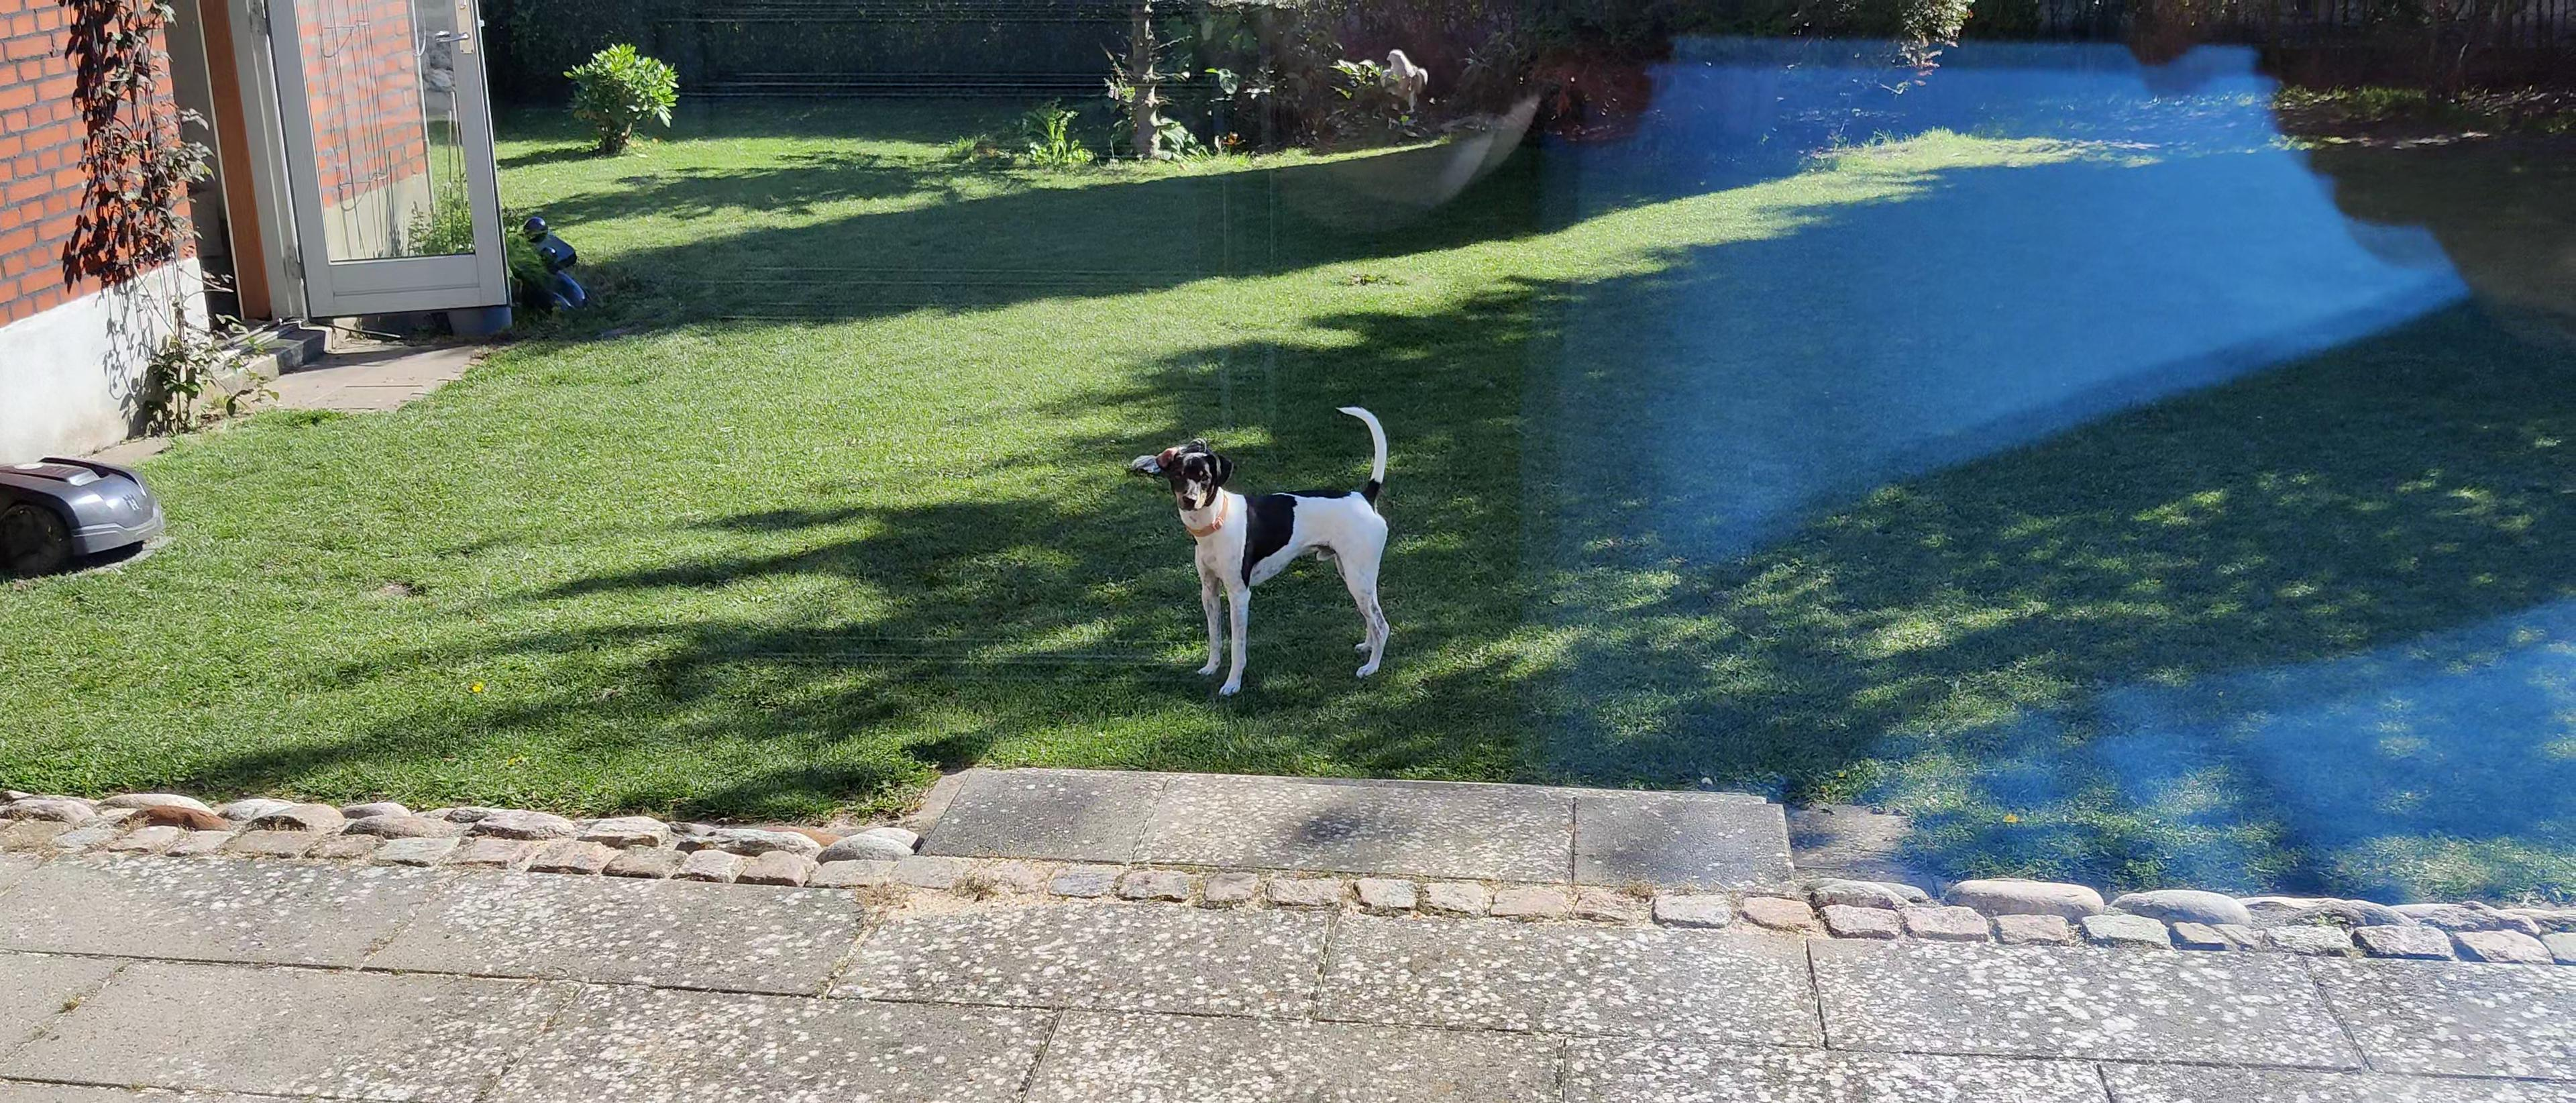Dog: (1150, 401, 1405, 704)
